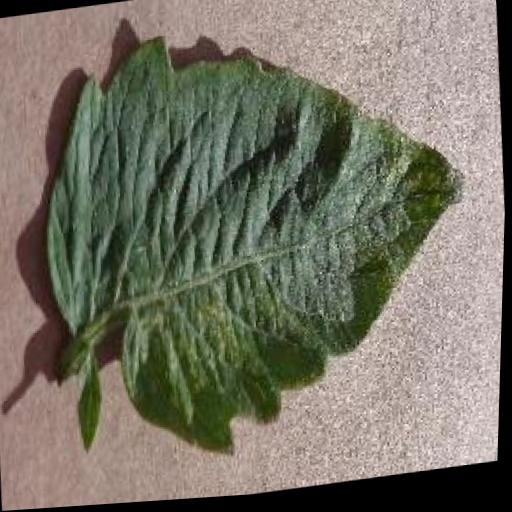Spider Mites: (29, 1, 482, 482)
